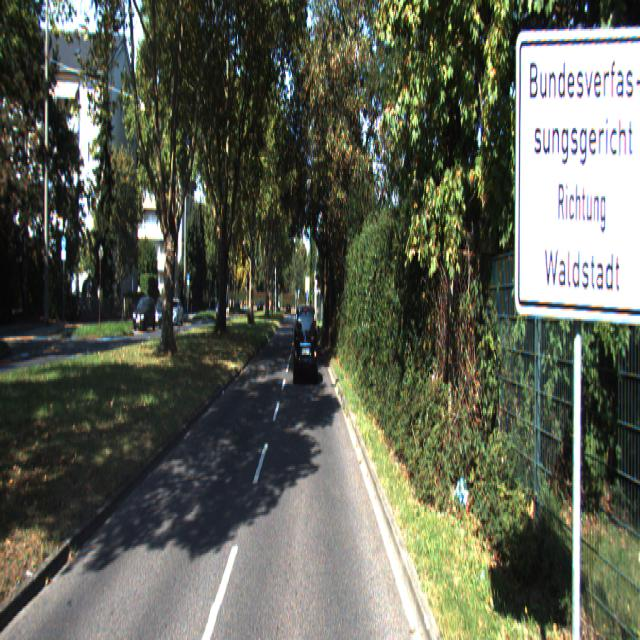Car: (293, 303, 319, 385), (132, 297, 157, 333), (152, 297, 172, 329)
